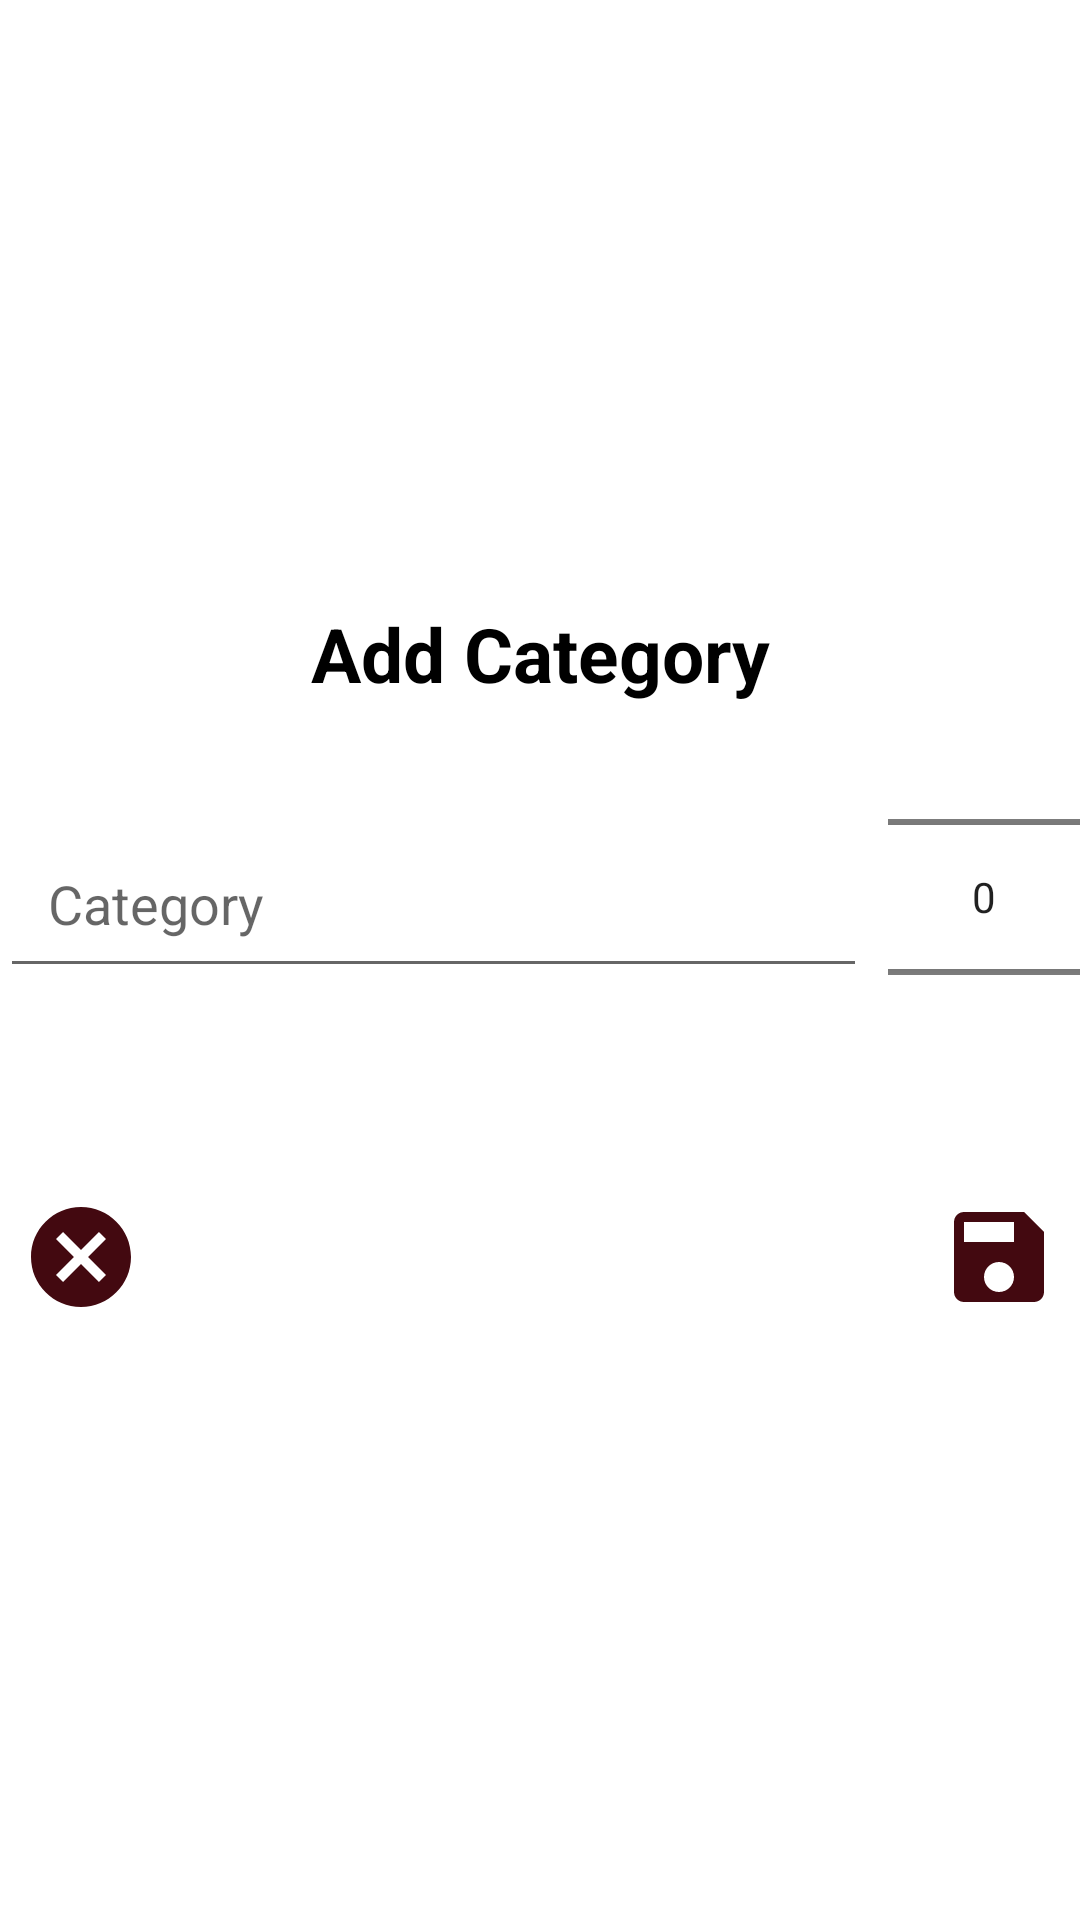

Icon bounding boxes for this 1080w x 1920h phone screenshot, format Rect(x1, y1, x2, y2):
cancel: Rect(31, 1207, 131, 1307)
save: Rect(954, 1212, 1044, 1302)
